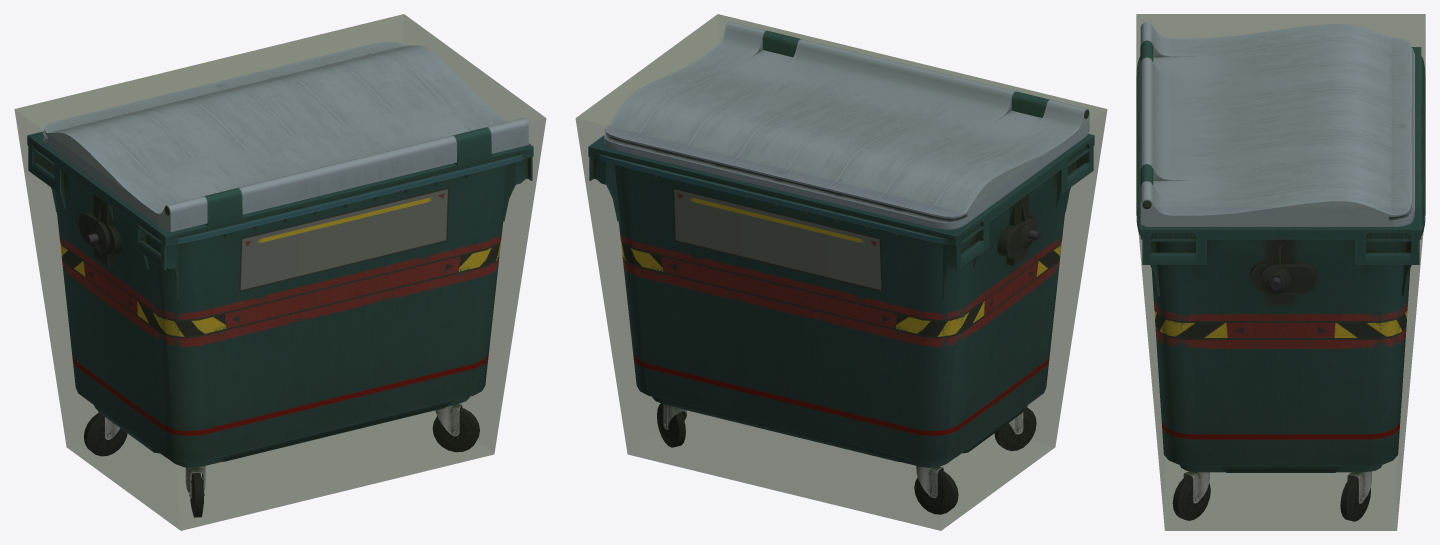
The model's file is Dumpster_01a_snaps011.fbx.
The picture shows the model from 3 angles, left to right: view 1: azimuth 30°, elevation 25°; view 2: azimuth 150°, elevation 25°; view 3: azimuth 270°, elevation 25°; orthographic projection.
Visible parts, largest first — view 1: Dumpster_01a_COL_snaps011, Dumpster_01a_snaps011_LOD0; view 2: Dumpster_01a_COL_snaps011, Dumpster_01a_snaps011_LOD0; view 3: Dumpster_01a_COL_snaps011, Dumpster_01a_snaps011_LOD0.
Part boxes in pixels (<box>): Dumpster_01a_COL_snaps011: <box>14,14,546,530</box>; Dumpster_01a_snaps011_LOD0: <box>27,41,533,517</box>; Dumpster_01a_COL_snaps011: <box>575,14,1107,530</box>; Dumpster_01a_snaps011_LOD0: <box>588,21,1094,514</box>; Dumpster_01a_COL_snaps011: <box>1136,14,1425,530</box>; Dumpster_01a_snaps011_LOD0: <box>1136,22,1425,521</box>.
Size of what is drawn, in the model's own units: 160 by 132 by 101.
2 materials, 1 textured.
